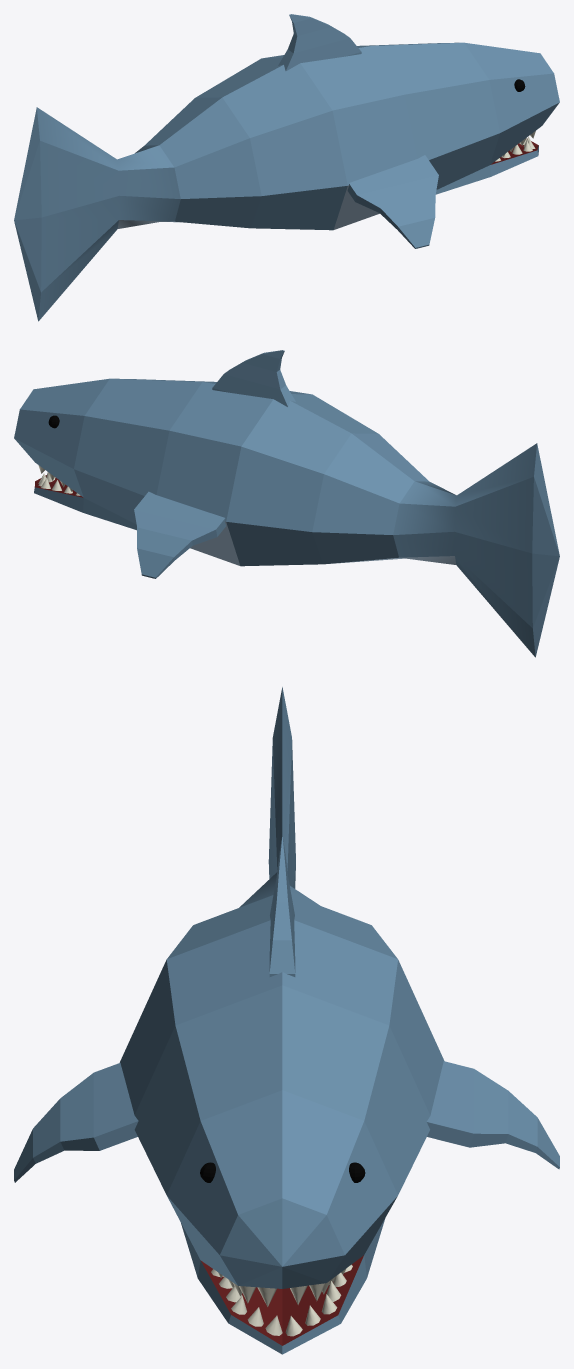
File: Shark.fbx
3 renders of one model, top to bottom at view 1: azimuth 30°, elevation 25°; view 2: azimuth 150°, elevation 25°; view 3: azimuth 270°, elevation 25°, orthographic. The views are drawn at different scales.
Visible parts, largest first — view 1: pCone34; view 2: pCone34; view 3: pCone34.
Boxes of the visible parts, box(x1,y1,x2,y2) form: pCone34: box(14, 14, 559, 321); pCone34: box(14, 350, 559, 657); pCone34: box(14, 687, 559, 1354).
Size of the model in its own units: 1.06 by 0.458 by 0.5671.
